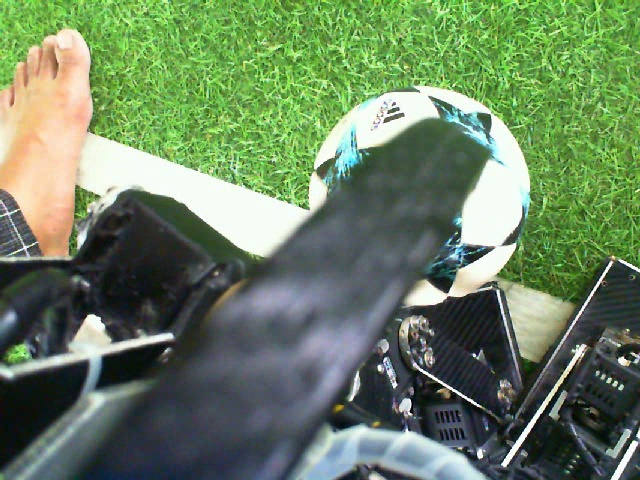ball: (388, 158, 532, 311)
